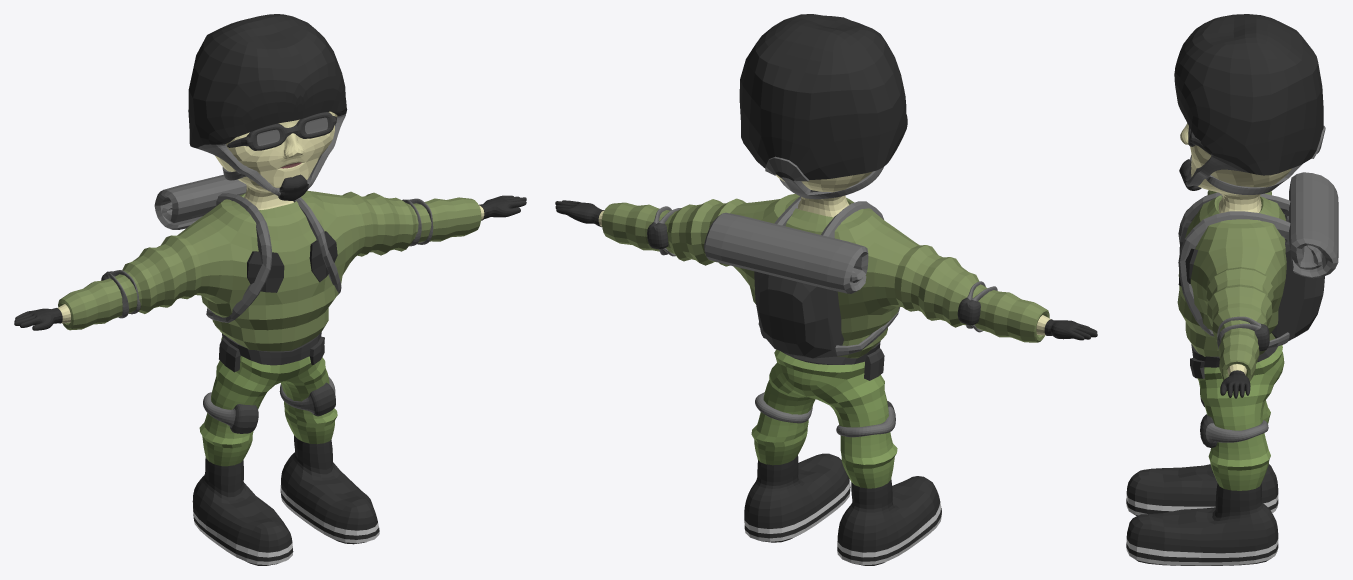
File: soldier.fbx
3 views of the same model, side by side, from view 1: azimuth 30°, elevation 25°; view 2: azimuth 150°, elevation 25°; view 3: azimuth 270°, elevation 25° (orthographic). The views are drawn at different scales.
Visible parts, largest first — view 1: Cube, Cube.001, Cube.002, Cube.006, Cube.007, Cube.004, Cube.003, Cube.008, Cube.005; view 2: Cube, Cube.001, Cube.002, Cube.007, Cube.006, Cube.008, Cube.005, Cube.004; view 3: Cube, Cube.001, Cube.002, Cube.006, Cube.007, Cube.004, Cube.005, Cube.008.
Part boxes in pixels (bbox=[...]): Cube: bbox=[58, 14, 484, 565]; Cube.001: bbox=[58, 190, 481, 351]; Cube.002: bbox=[199, 332, 337, 466]; Cube.006: bbox=[206, 193, 341, 322]; Cube.007: bbox=[154, 174, 246, 229]; Cube.004: bbox=[203, 376, 335, 433]; Cube.003: bbox=[227, 112, 336, 150]; Cube.008: bbox=[14, 195, 526, 330]; Cube.005: bbox=[101, 198, 433, 318]; Cube: bbox=[598, 14, 1050, 565]; Cube.001: bbox=[601, 194, 1049, 358]; Cube.002: bbox=[751, 341, 897, 488]; Cube.007: bbox=[704, 212, 868, 293]; Cube.006: bbox=[754, 196, 899, 358]; Cube.008: bbox=[555, 200, 1097, 340]; Cube.005: bbox=[647, 206, 997, 332]; Cube.004: bbox=[755, 392, 895, 437]; Cube: bbox=[1126, 14, 1325, 565]; Cube.001: bbox=[1177, 190, 1286, 381]; Cube.002: bbox=[1190, 344, 1284, 490]; Cube.006: bbox=[1178, 192, 1324, 348]; Cube.007: bbox=[1289, 172, 1338, 278]; Cube.004: bbox=[1200, 388, 1268, 447]; Cube.005: bbox=[1217, 316, 1269, 351]; Cube.008: bbox=[1220, 370, 1250, 398].
Bounding box in the file's own units: 374 × 343 × 130.
